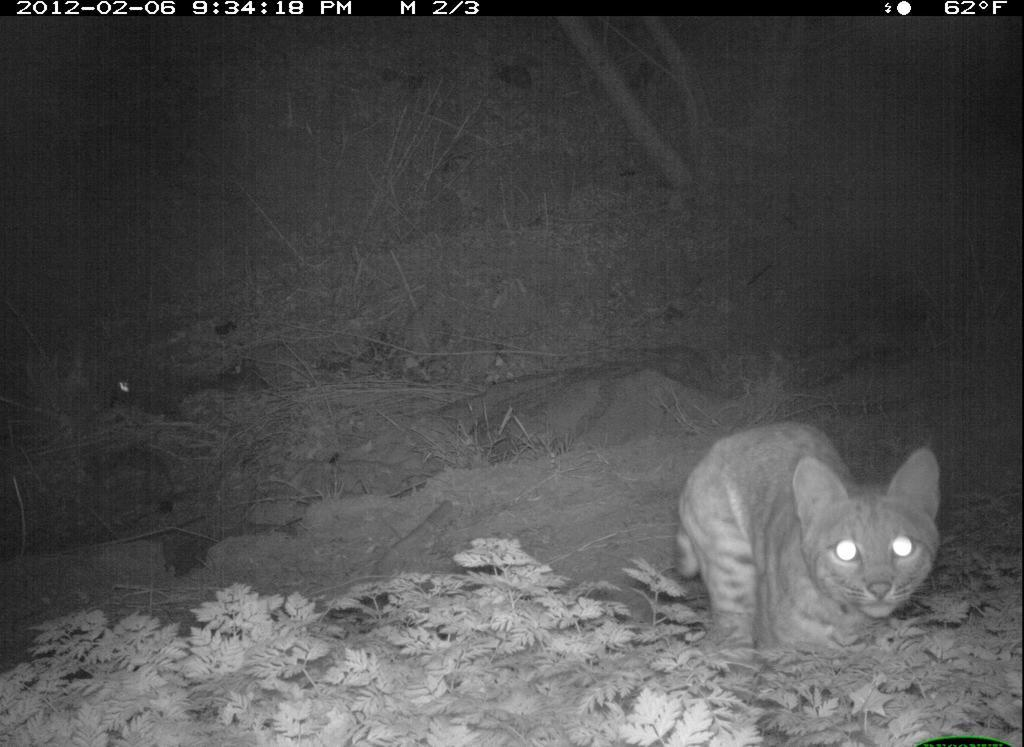bobcat: (666, 406, 944, 676)
